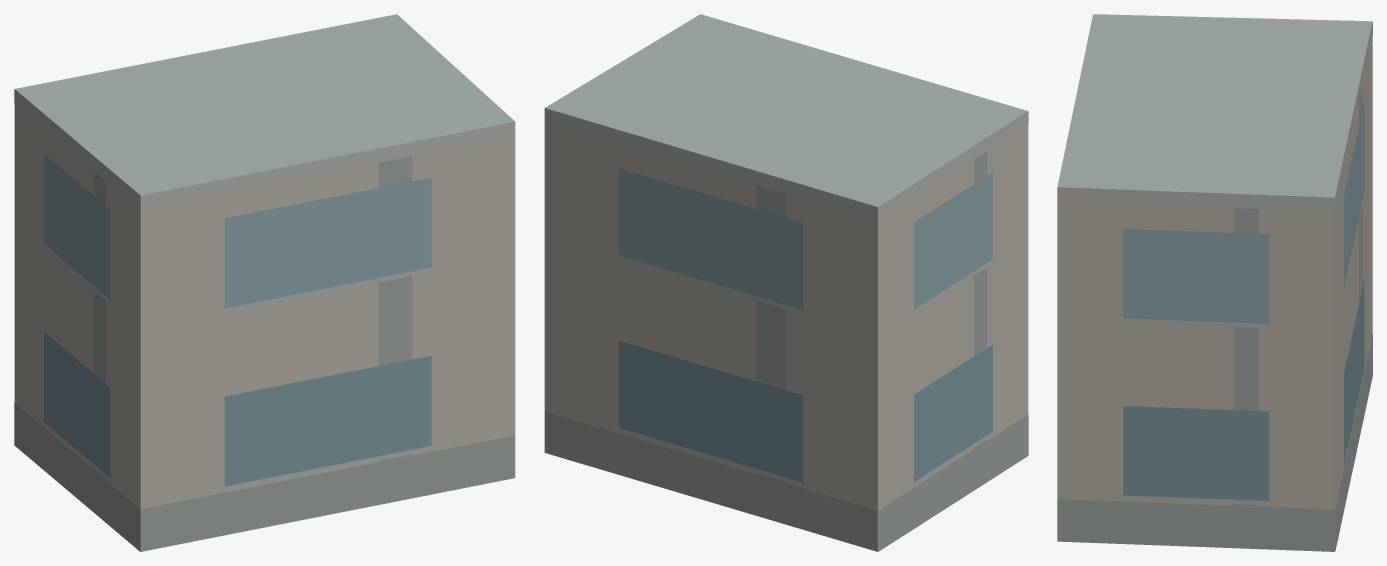
The model's file is survey-upis-32575796.glb.
The picture shows the model from 3 angles, left to right: view 1: azimuth 30°, elevation 25°; view 2: azimuth 150°, elevation 25°; view 3: azimuth 270°, elevation 25°; orthographic projection. The views are drawn at different scales.
Visible parts, largest first — view 1: survey-upis-32575796.tmp; view 2: survey-upis-32575796.tmp; view 3: survey-upis-32575796.tmp.
Part boxes in pixels (bbox=[...]): survey-upis-32575796.tmp: bbox=[14, 14, 515, 551]; survey-upis-32575796.tmp: bbox=[544, 14, 1028, 551]; survey-upis-32575796.tmp: bbox=[1057, 14, 1372, 551].
Bounding box in the file's own units: 6.79 × 6.1 × 4.93.
